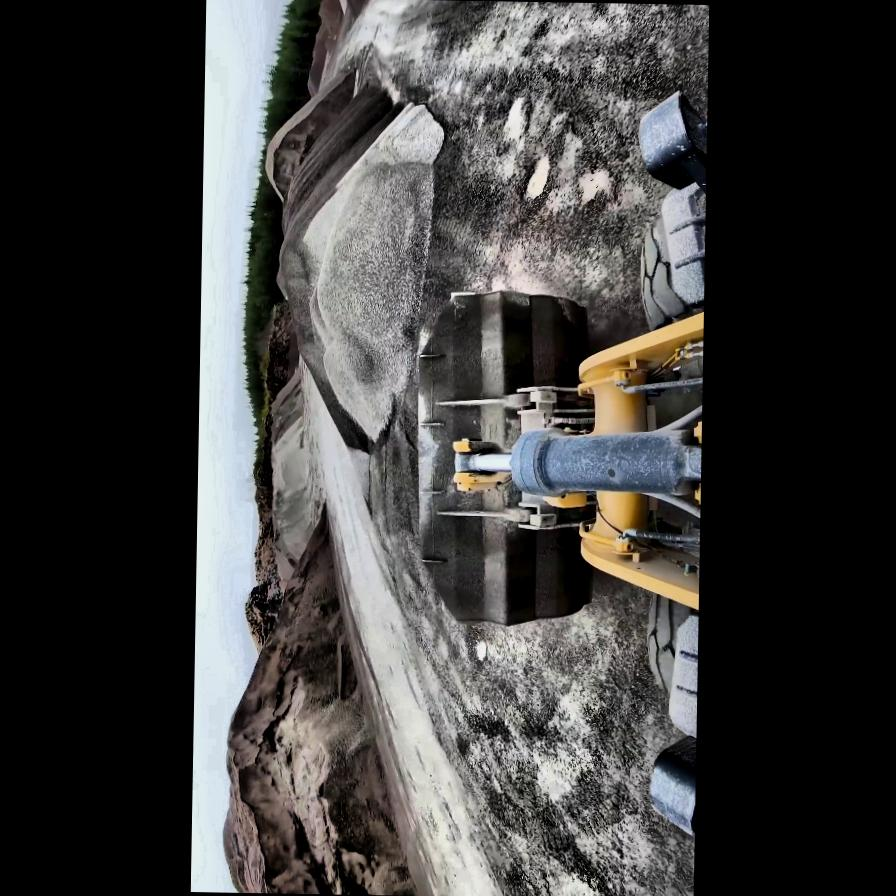anchor: (450, 436, 513, 490)
pile of gravel: (218, 514, 432, 895), (265, 78, 444, 506), (262, 67, 361, 215), (266, 380, 313, 572), (306, 0, 385, 96), (334, 0, 377, 19)
